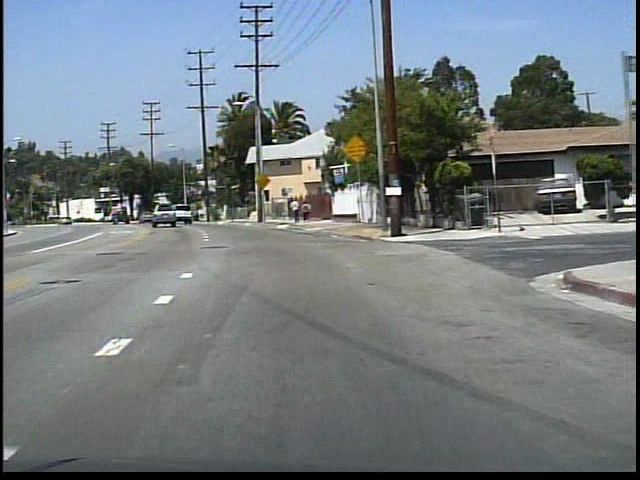person: (289, 196, 301, 224), (301, 197, 312, 223)
